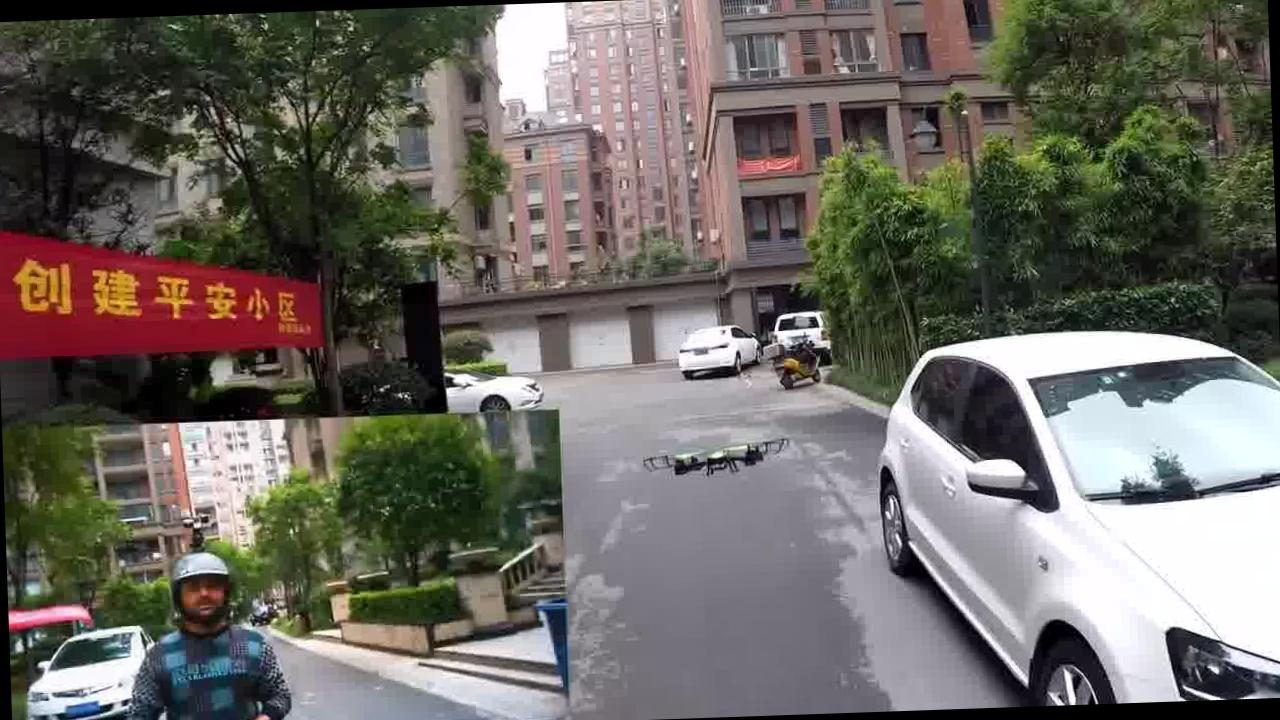drone: (626, 415, 794, 490)
